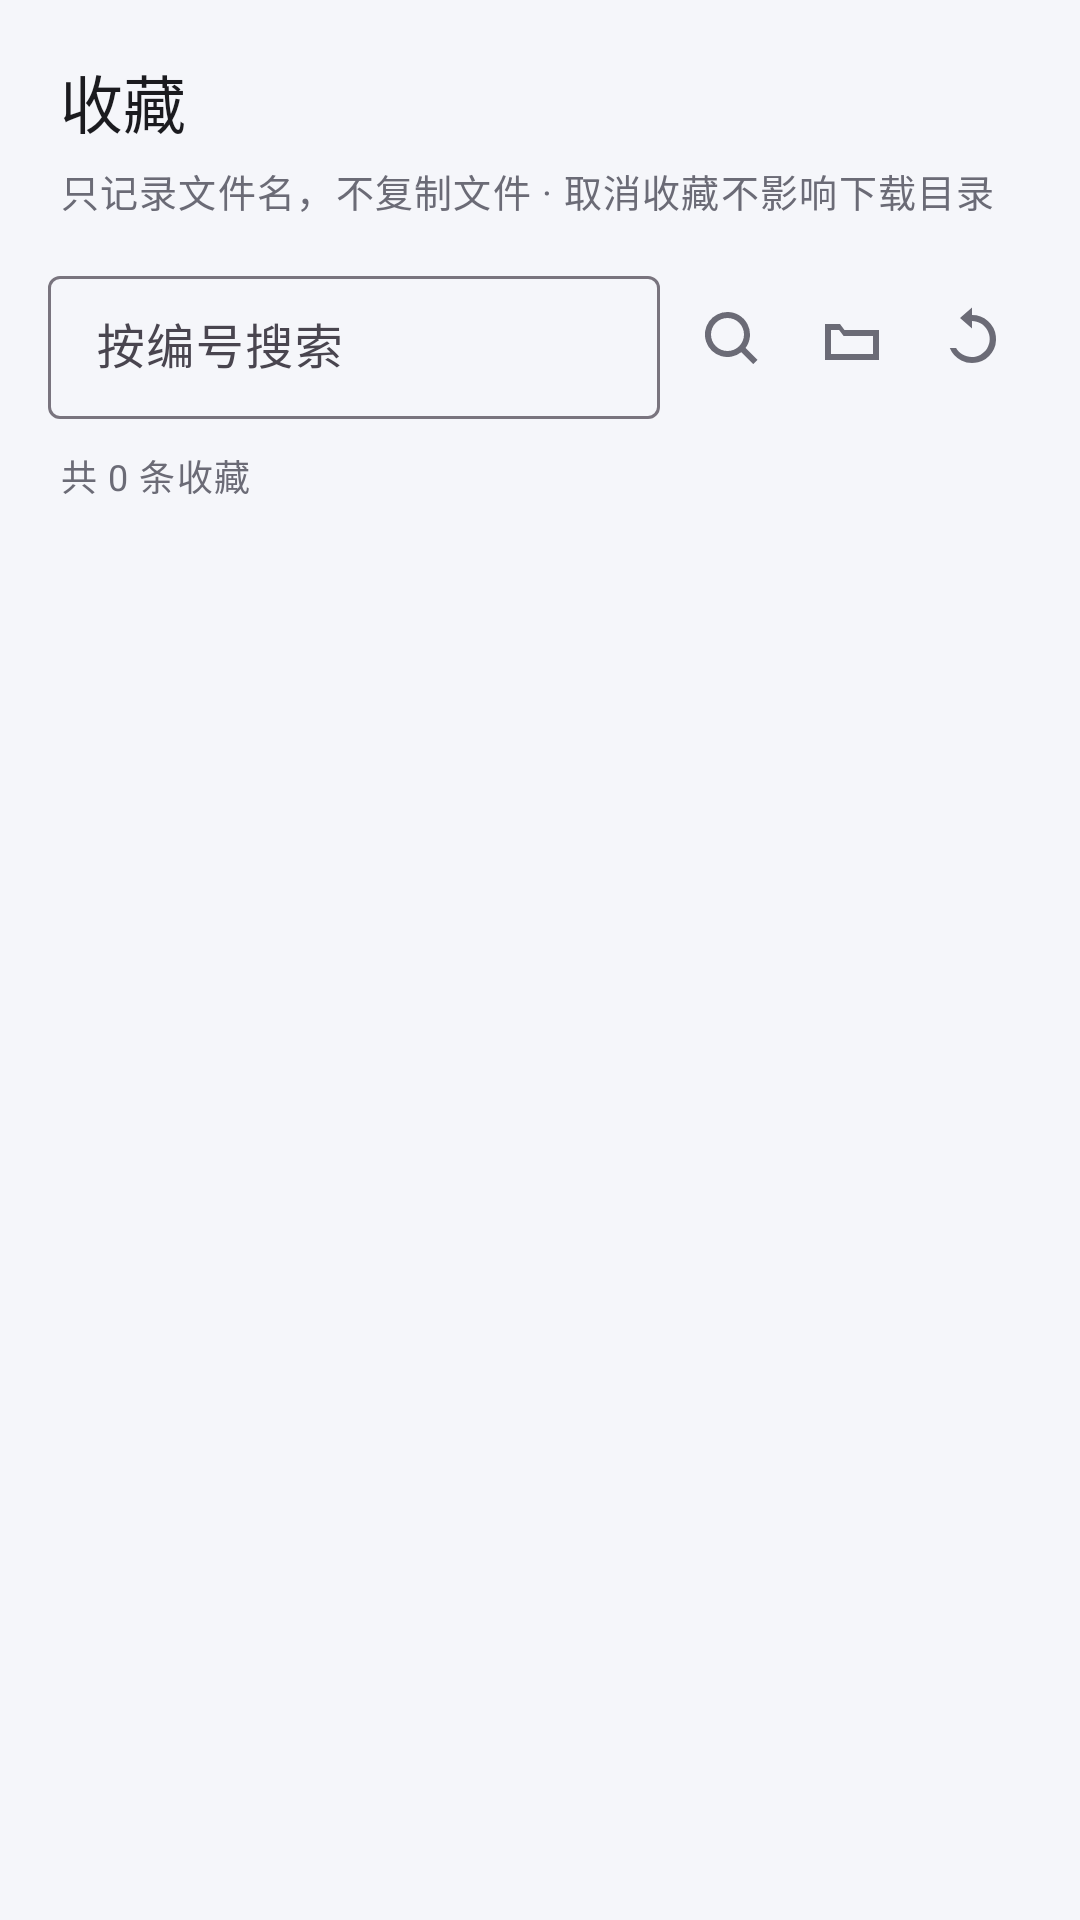

Icons on this 1080 x 1920 Android screen, each with its box as rect(x1, y1, x2, y2):
刷新: rect(950, 308, 996, 363)
